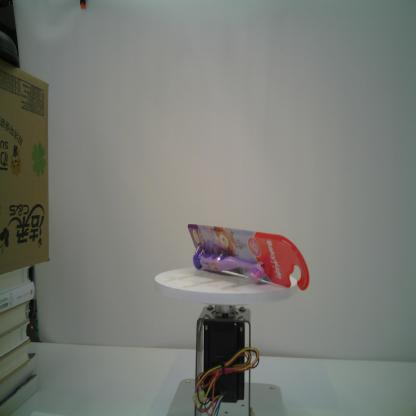Personal Hygiene: (188, 223, 310, 291)
